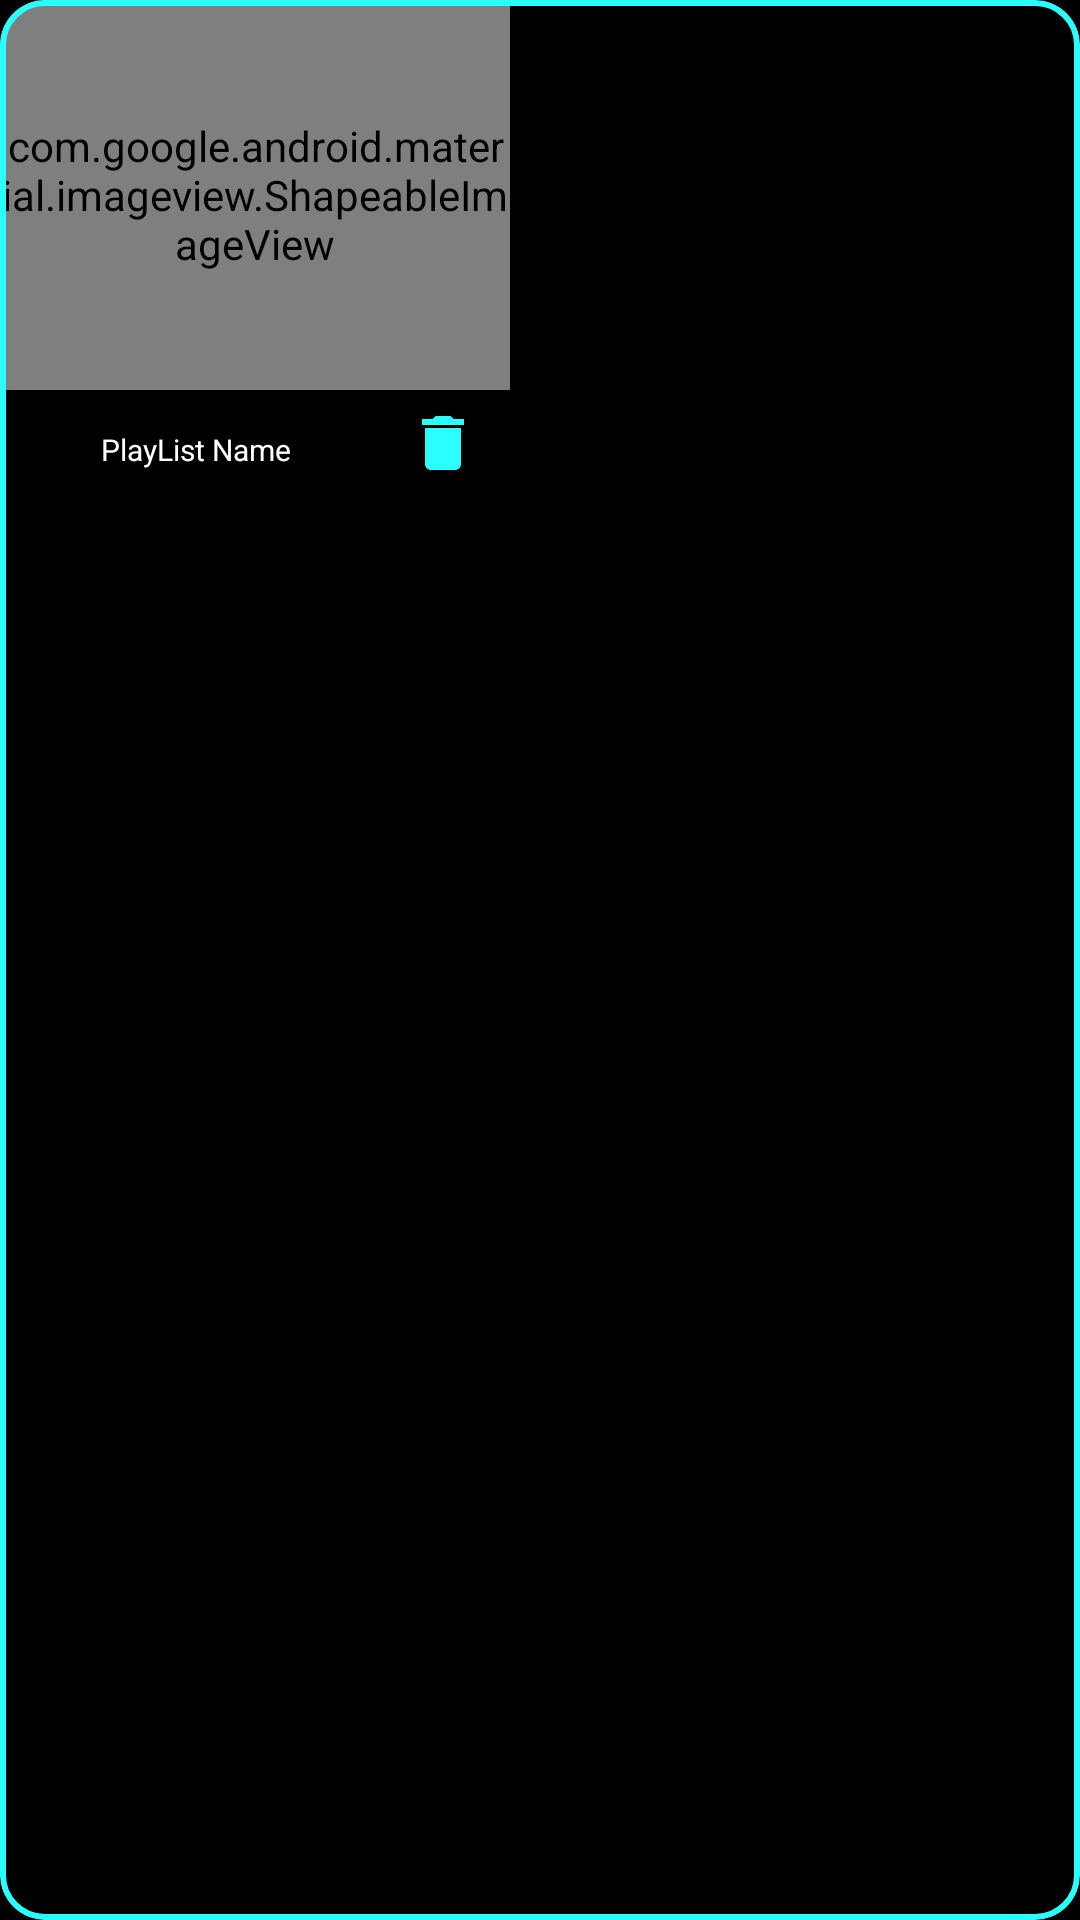

Icons on this 1080×1920 Android screen, each with its box as (left=x1, top=y1, right=x2, bottom=y2):
delete: (left=422, top=416, right=464, bottom=470)
